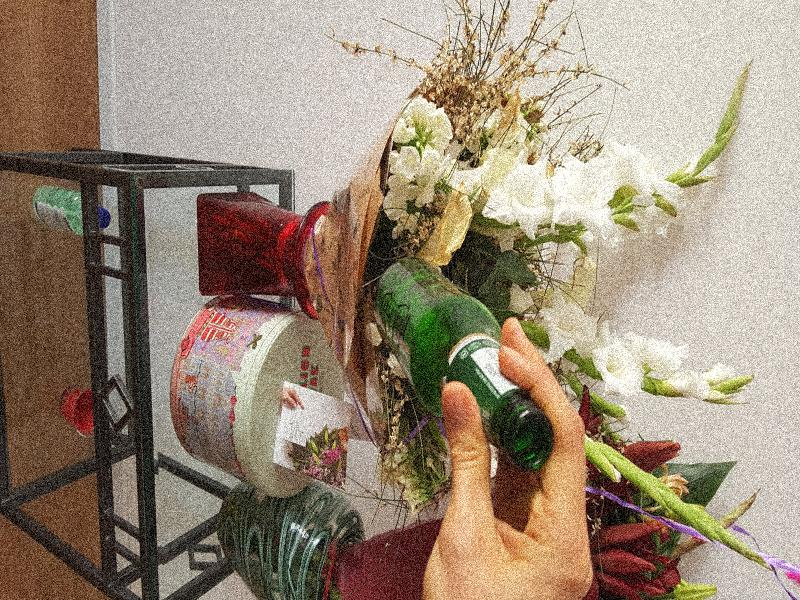Beer: (375, 259, 553, 467)
